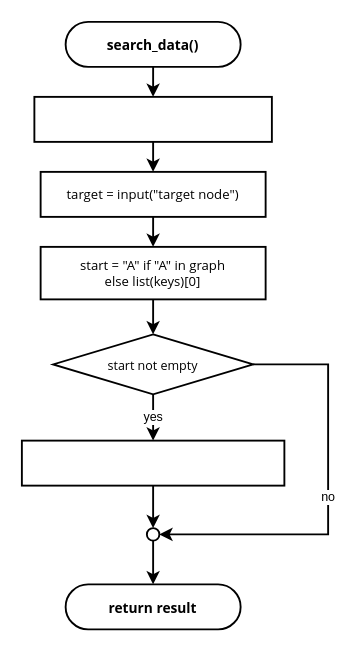
The diagram is 361 pixels wide and 653 high, and some of its shapes have lost their labels. The centre of each missing label's shape, as x and y in pixels:
result = ["Tree is empty", []]: point 152,118
result = BFS(graph, start, target): point 152,462
